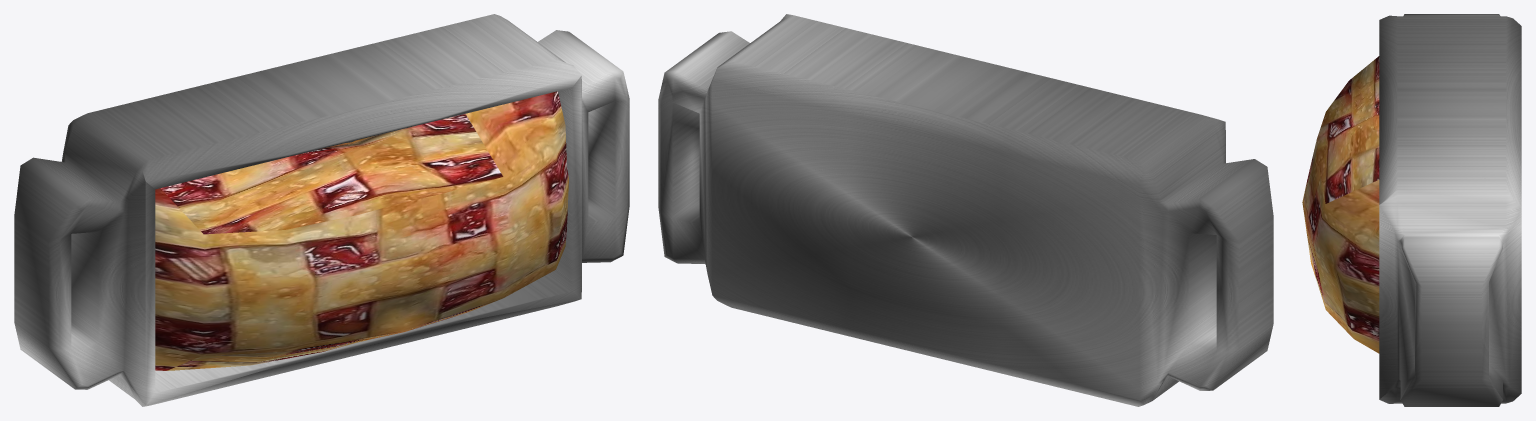
The model's file is CASSEROLE_03.FBX.
3 renders of one model, left to right at view 1: azimuth 30°, elevation 25°; view 2: azimuth 150°, elevation 25°; view 3: azimuth 270°, elevation 25°, orthographic. The views are drawn at different scales.
Visible parts, largest first — view 1: Box004, Box005; view 2: Box004; view 3: Box004, Box005.
Part boxes in pixels (x1,y1,x2,y2): Box004: [14, 14, 629, 406]; Box005: [155, 91, 568, 370]; Box004: [658, 14, 1273, 406]; Box004: [1379, 14, 1521, 406]; Box005: [1302, 56, 1379, 353].
Size of the model in its own units: 4.32 by 1.75 by 1.62.
Materials: 2 (2 with a texture image).
